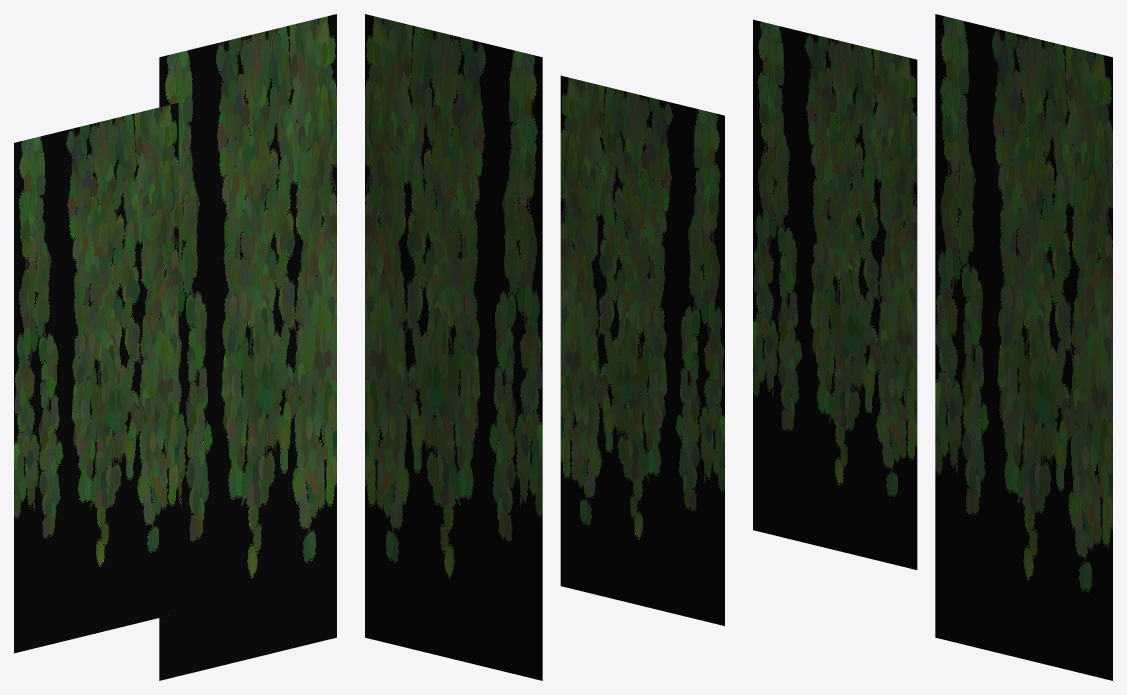
The model's file is Prop_Vine1_LOD2.gltf.
The picture shows the model from 3 angles, left to right: view 1: azimuth 30°, elevation 25°; view 2: azimuth 150°, elevation 25°; view 3: azimuth 330°, elevation 25°; orthographic projection.
Parts seen in each view (by area): view 1: Prop_Vine1_LOD2; view 2: Prop_Vine1_LOD2; view 3: Prop_Vine1_LOD2.
Boxes of the visible parts, x1,y1,x2,y2 form: Prop_Vine1_LOD2: (14,14,336,680); Prop_Vine1_LOD2: (365,14,724,680); Prop_Vine1_LOD2: (753,14,1112,680).
Size of the model in its own units: 1.24 by 2.17 by 0.1171.
1 material, 1 textured.
